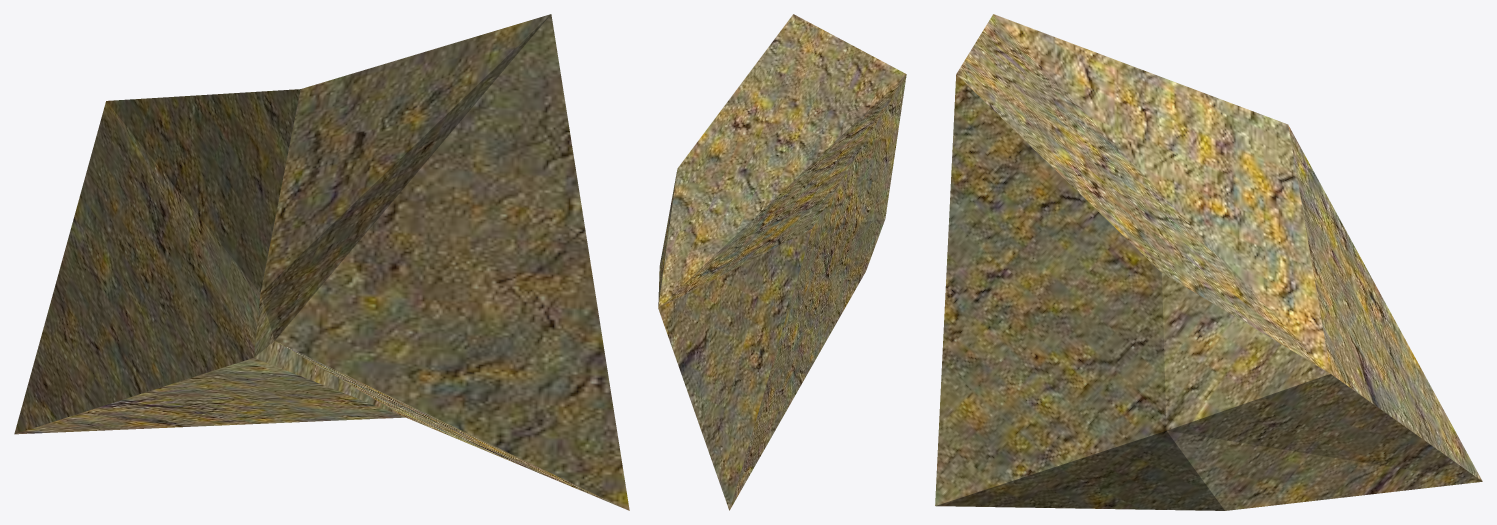
The model's file is rock10.fbx.
3 renders of one model, left to right at view 1: azimuth 30°, elevation 25°; view 2: azimuth 150°, elevation 25°; view 3: azimuth 270°, elevation 25°, orthographic. The views are drawn at different scales.
Visible parts, largest first — view 1: Rock10; view 2: Rock10; view 3: Rock10.
Boxes of the visible parts, left/top/right/bottom form: Rock10: left=14, top=14, right=629, bottom=510; Rock10: left=658, top=14, right=906, bottom=510; Rock10: left=935, top=14, right=1482, bottom=510.
Bounding box in the file's own units: 9.32 × 15.43 × 15.62.
